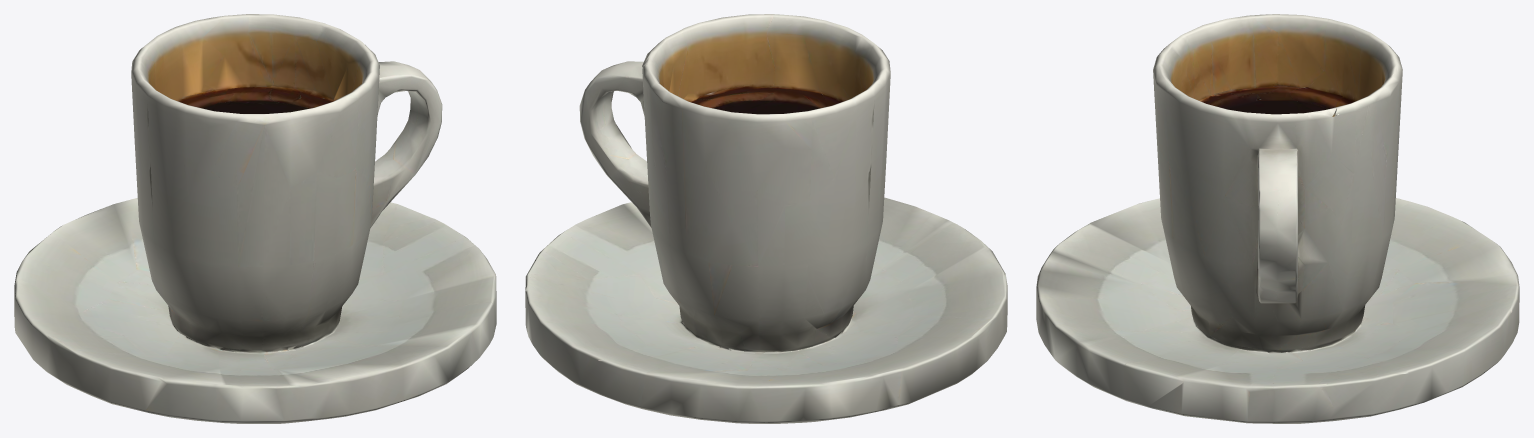
Rendered from token-espresso.glb.
3 renders of one model, left to right at view 1: azimuth 30°, elevation 25°; view 2: azimuth 150°, elevation 25°; view 3: azimuth 270°, elevation 25°, orthographic.
Size of the model in its own units: 1.9 by 1.2 by 1.9.
Materials: 1 (1 with a texture image).
